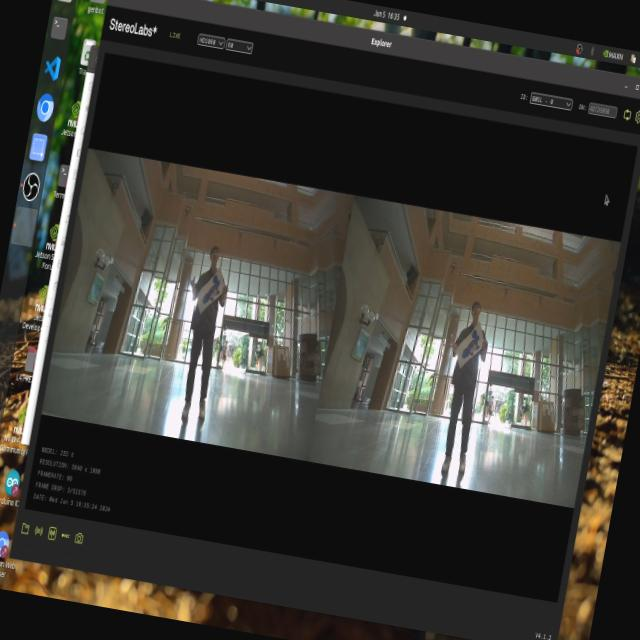blue: (193, 268, 228, 312), (454, 320, 482, 366)
